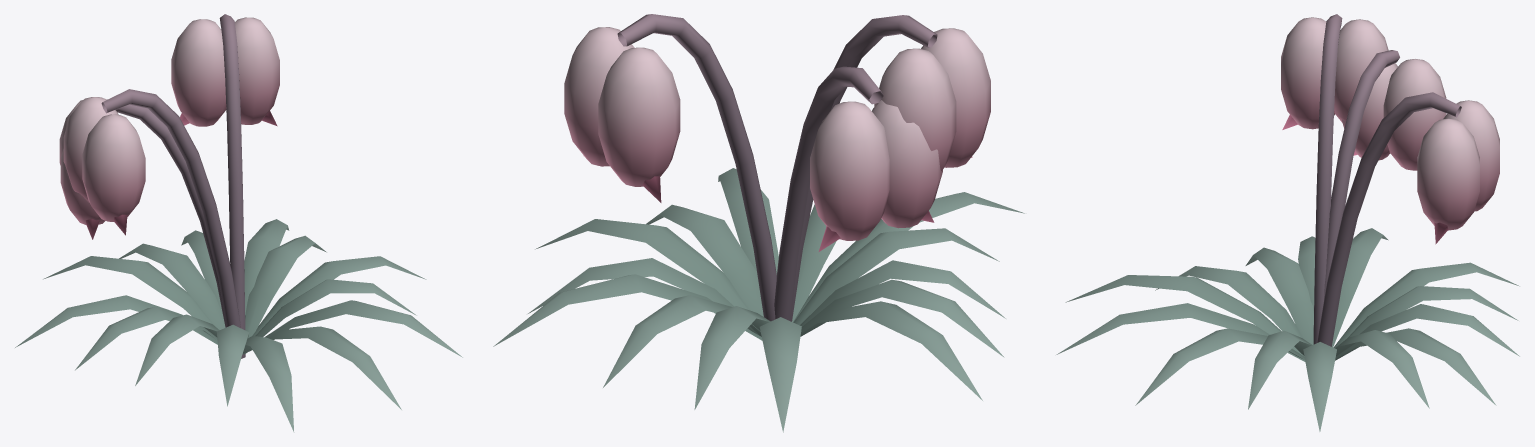
The model's file is Mtn_Komakusa.fbx.
3 renders of one model, left to right at view 1: azimuth 30°, elevation 25°; view 2: azimuth 150°, elevation 25°; view 3: azimuth 270°, elevation 25°, orthographic. The views are drawn at different scales.
Parts seen in each view (by area): view 1: Mtn_Komakusa; view 2: Mtn_Komakusa; view 3: Mtn_Komakusa.
Boxes of the visible parts, x1=… form: Mtn_Komakusa: x1=15, y1=14, x2=462, y2=432; Mtn_Komakusa: x1=493, y1=14, x2=1024, y2=432; Mtn_Komakusa: x1=1056, y1=14, x2=1519, y2=431.
Bounding box in the file's own units: 2.69 × 1.95 × 2.75.
